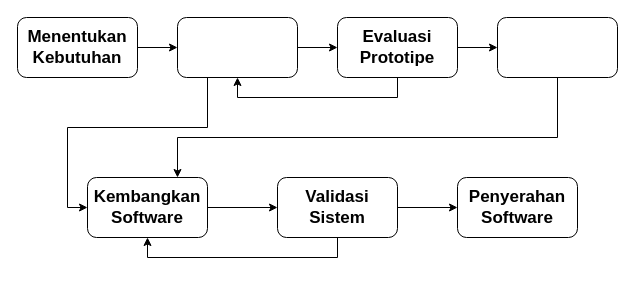
This 635x283 diagram has some shape labels left out. The shapes that lost their labels are listed below. From the top down, each one's centre as x and y in pixels, then its label:
At point (237, 47): "Pembuatan Prototipe".
At point (557, 47): "Spesifikasi Sistem".
